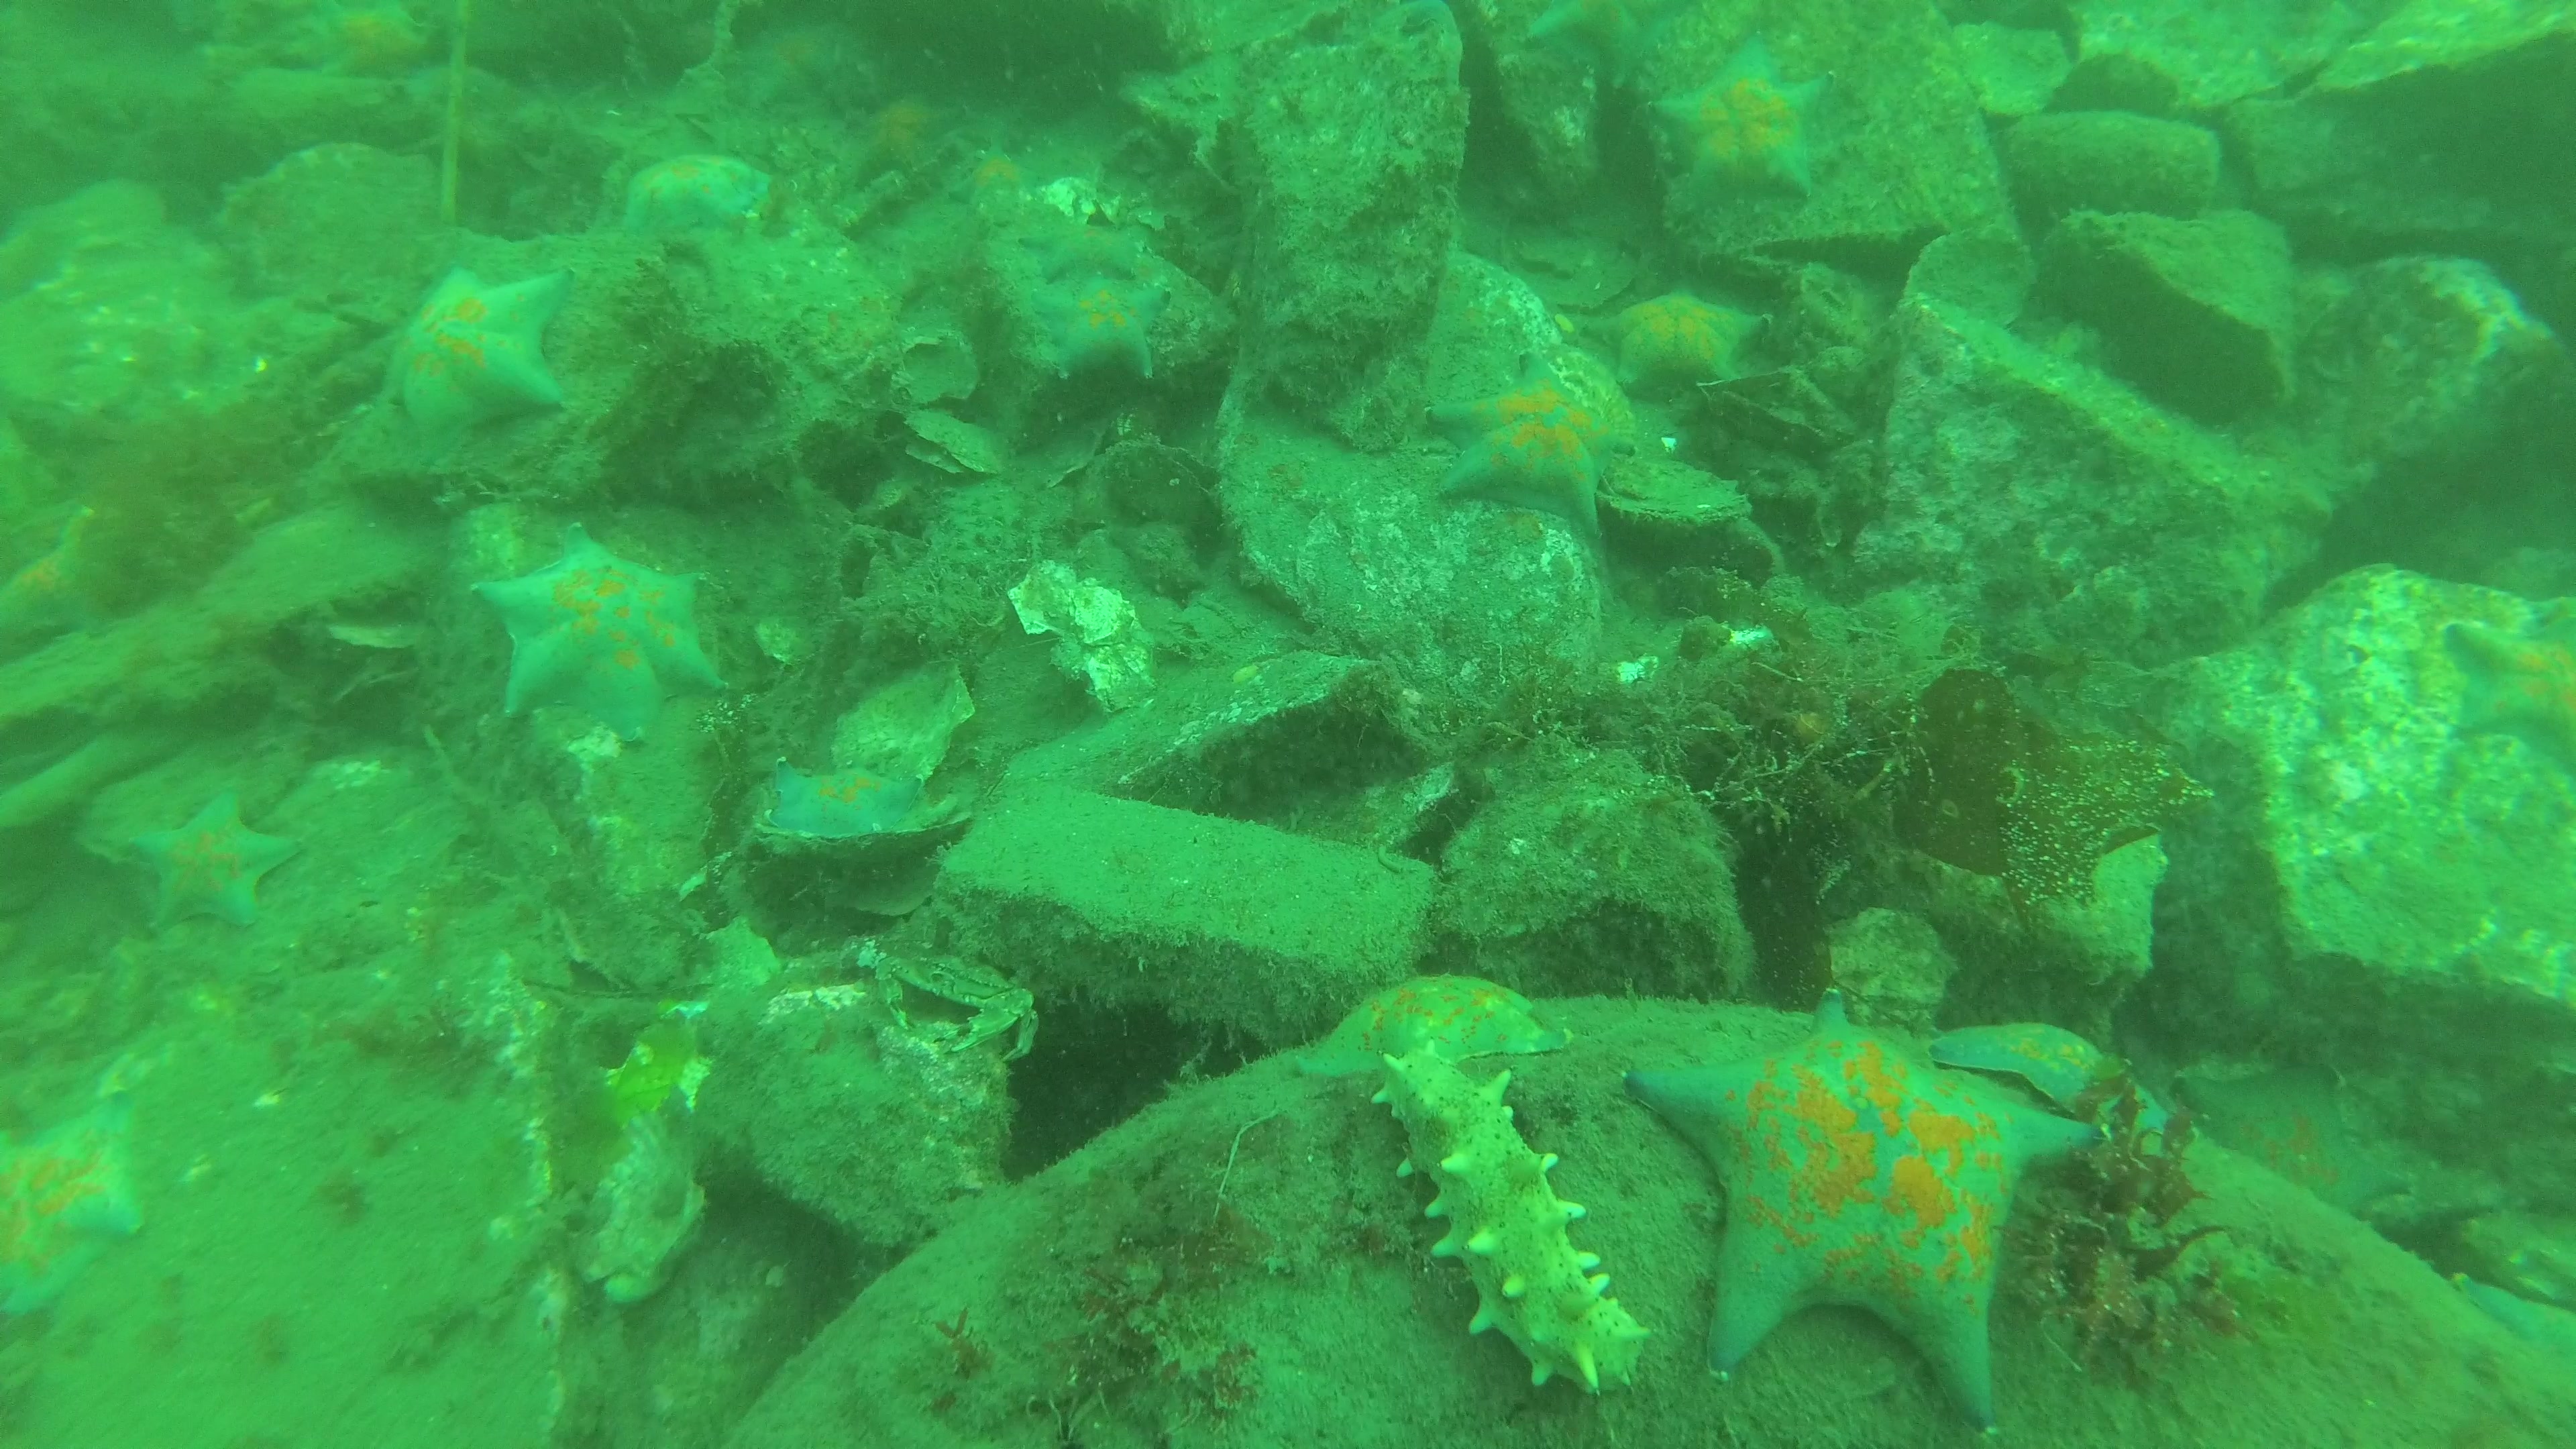holothurian: (1373, 1051, 1638, 1399)
starfish: (1631, 991, 2095, 1431), (472, 515, 729, 743), (2181, 1065, 2410, 1274), (1311, 938, 1575, 1095), (340, 276, 570, 448), (1921, 1017, 2210, 1146), (1435, 349, 1637, 531), (1651, 34, 1836, 219), (4, 1097, 150, 1329), (131, 796, 303, 932), (1582, 278, 1776, 395), (2442, 600, 2576, 768), (761, 743, 922, 869), (1031, 265, 1166, 395), (11, 517, 138, 642), (311, 0, 439, 96), (628, 152, 768, 239), (842, 99, 945, 180), (959, 134, 1040, 216)
